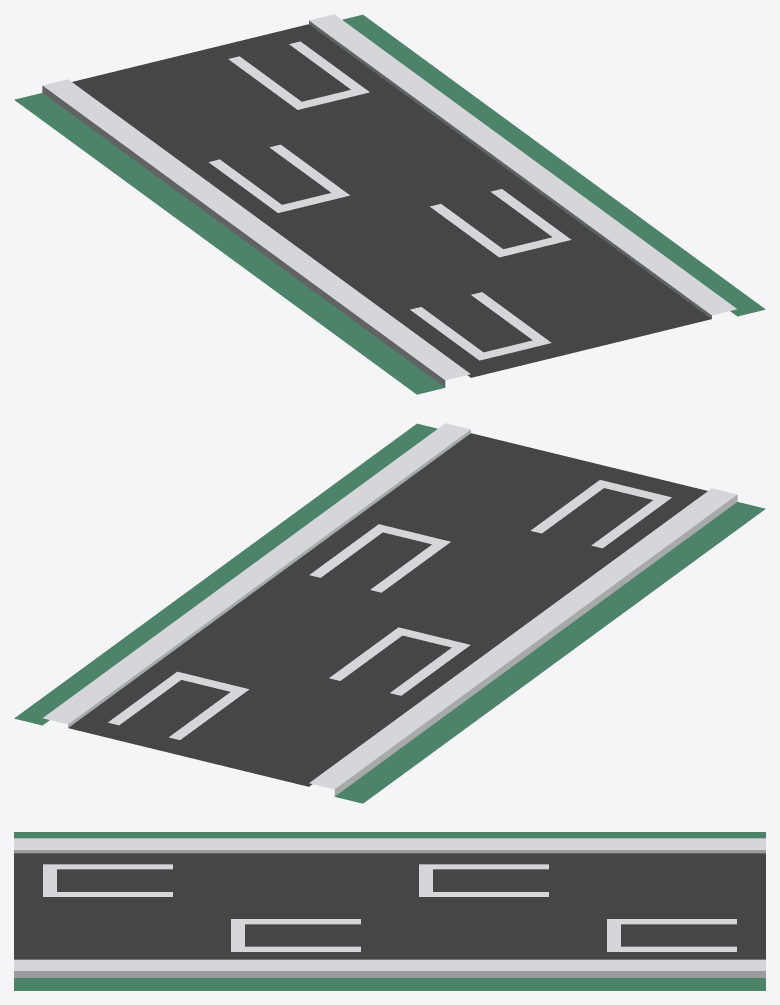
The model's file is road-start-positions.glb.
3 renders of one model, top to bottom at view 1: azimuth 30°, elevation 25°; view 2: azimuth 150°, elevation 25°; view 3: azimuth 270°, elevation 25°, orthographic. The views are drawn at different scales.
Visible parts, largest first — view 1: roadStartPositions; view 2: roadStartPositions; view 3: roadStartPositions.
Part boxes in pixels (box(x1,y1,x2,y2)): roadStartPositions: box(14, 14, 765, 394); roadStartPositions: box(14, 423, 765, 803); roadStartPositions: box(14, 832, 765, 990).
Size of the model in its own units: 1 by 0.02 by 2.
